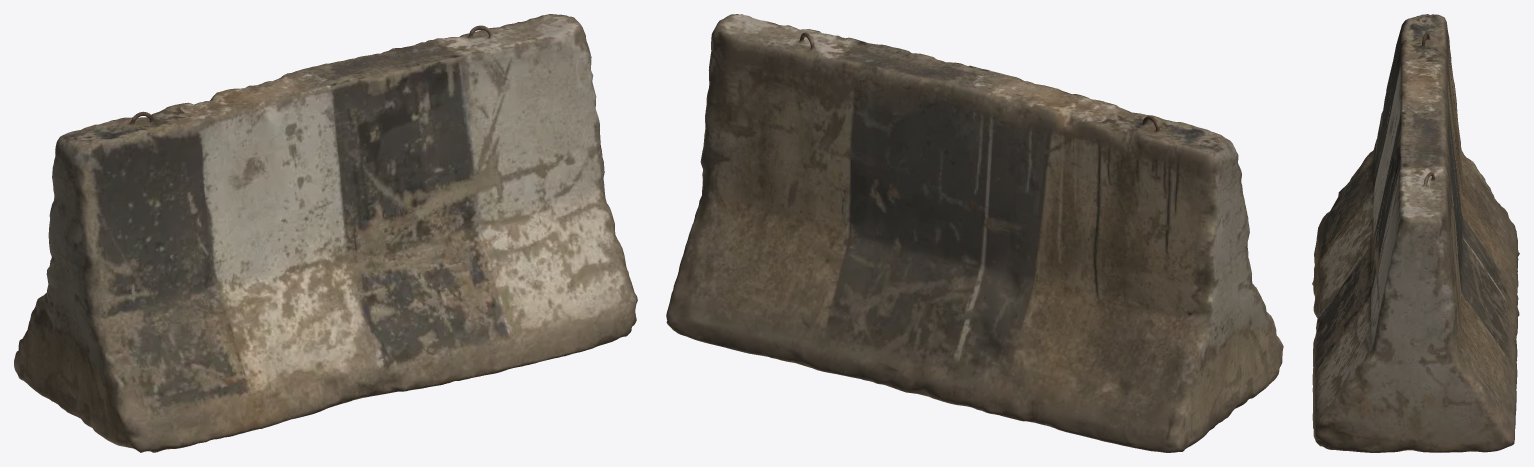
File: barrier.glb
3 renders of one model, left to right at view 1: azimuth 30°, elevation 25°; view 2: azimuth 150°, elevation 25°; view 3: azimuth 270°, elevation 25°, orthographic. The views are drawn at different scales.
Visible parts, largest first — view 1: concrete_road_barrier_LOD1; view 2: concrete_road_barrier_LOD1; view 3: concrete_road_barrier_LOD1.
Boxes of the visible parts, left/top/right/bottom form: concrete_road_barrier_LOD1: left=14, top=14, right=637, bottom=452; concrete_road_barrier_LOD1: left=666, top=14, right=1283, bottom=452; concrete_road_barrier_LOD1: left=1312, top=14, right=1519, bottom=452.
Size of the model in its own units: 1.54 by 0.8311 by 0.6387.
Materials: 1 (1 with a texture image).
